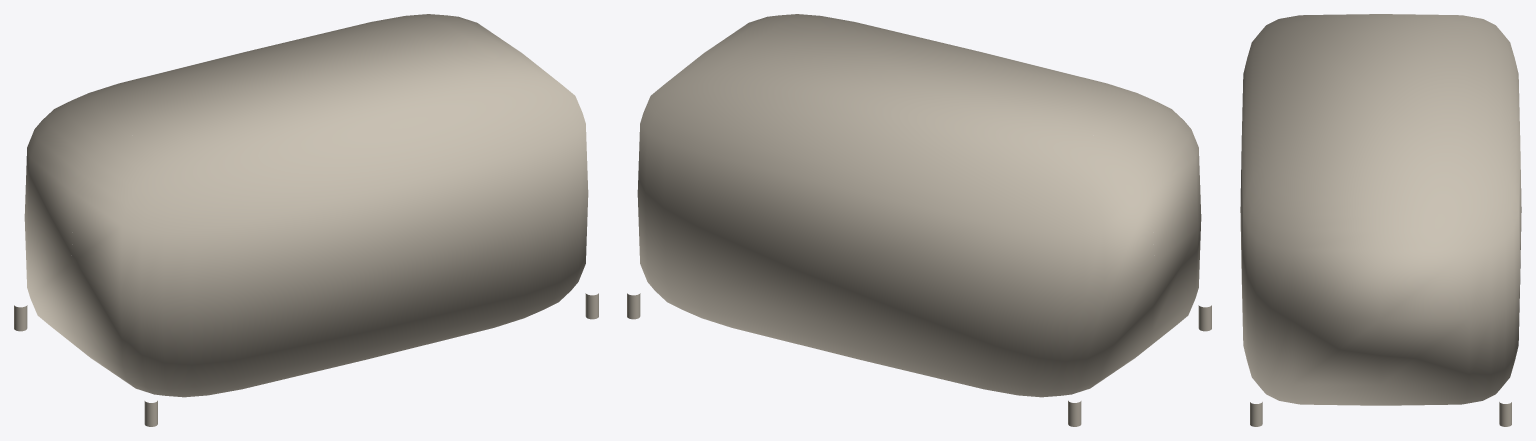
File: ikea-landskrona-90403722-g2-proxy.glb
3 renders of one model, left to right at view 1: azimuth 30°, elevation 25°; view 2: azimuth 150°, elevation 25°; view 3: azimuth 270°, elevation 25°, orthographic. The views are drawn at different scales.
Parts seen in each view (by area): view 1: proxy_body; view 2: proxy_body; view 3: proxy_body, leg (×2).
Part boxes in pixels (bbox=[...]): proxy_body: bbox=[24, 14, 588, 397]; proxy_body: bbox=[637, 14, 1201, 397]; proxy_body: bbox=[1240, 14, 1521, 405]; leg (×2): bbox=[1250, 402, 1511, 426].
Bounding box in the file's own units: 1.64 × 0.78 × 0.89.
